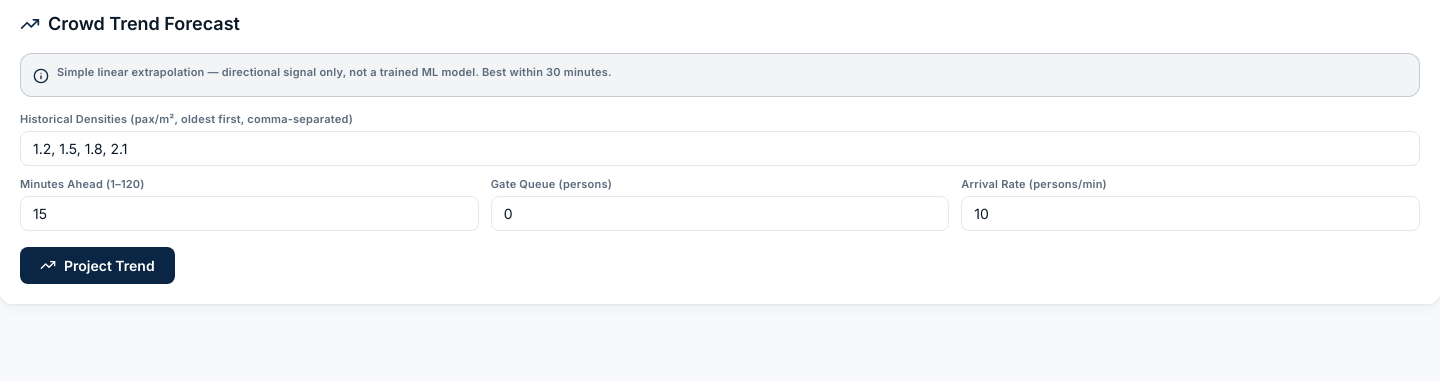
Scenario: PredictionPanel › displays error message if not enough history provided
This screenshot has width=1440, height=381.
Step 1. Replace the text in the field labelled "Historical Densities (pax/m², oldest first, comma-separated)" with "1.2" → (720, 148), box [20,131,1420,166]
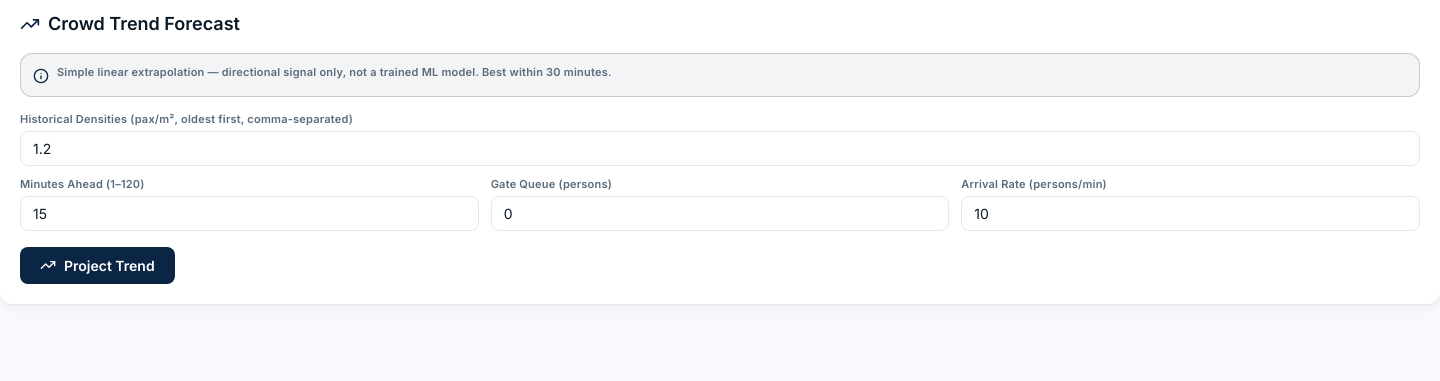
Step 2. Click the button "Project Trend" → (97, 265), box [20,246,175,284]
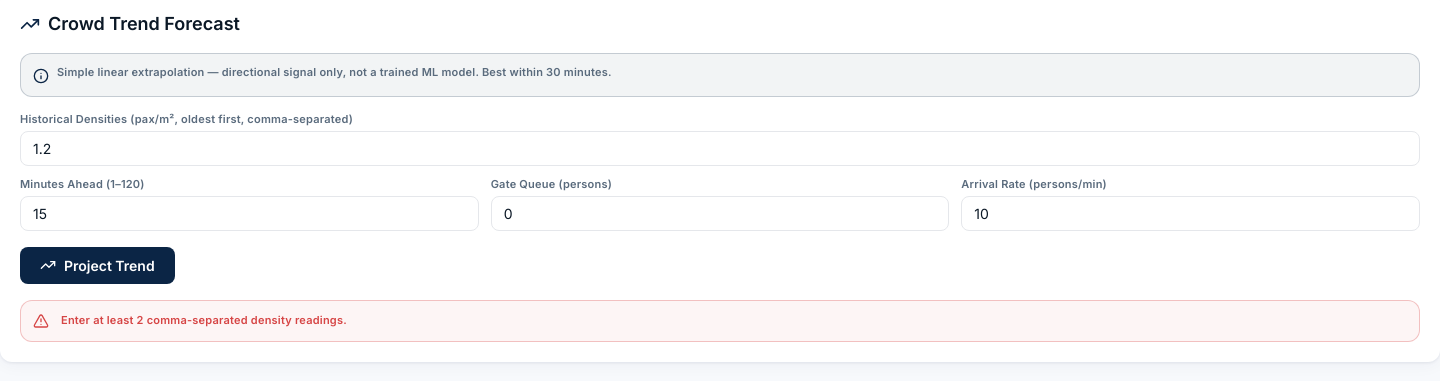
Now the text "Enter at least 2 comma-separated density readings." is shown, box [61,314,347,327]
